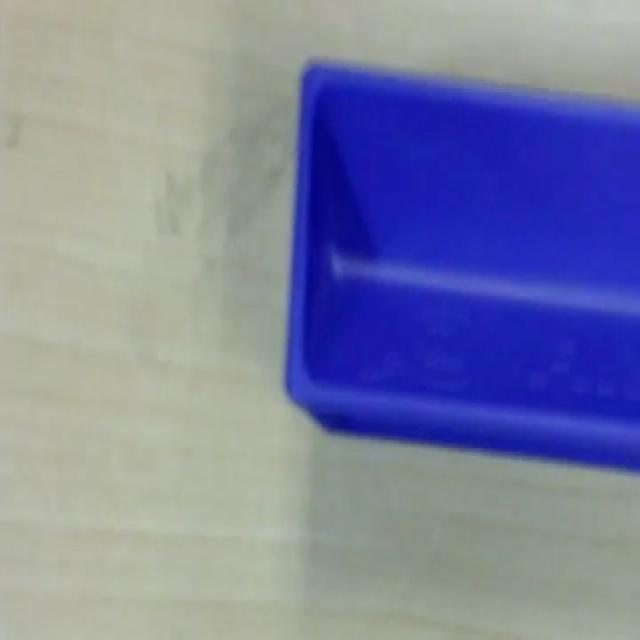blue_block: (283, 54, 638, 470)
